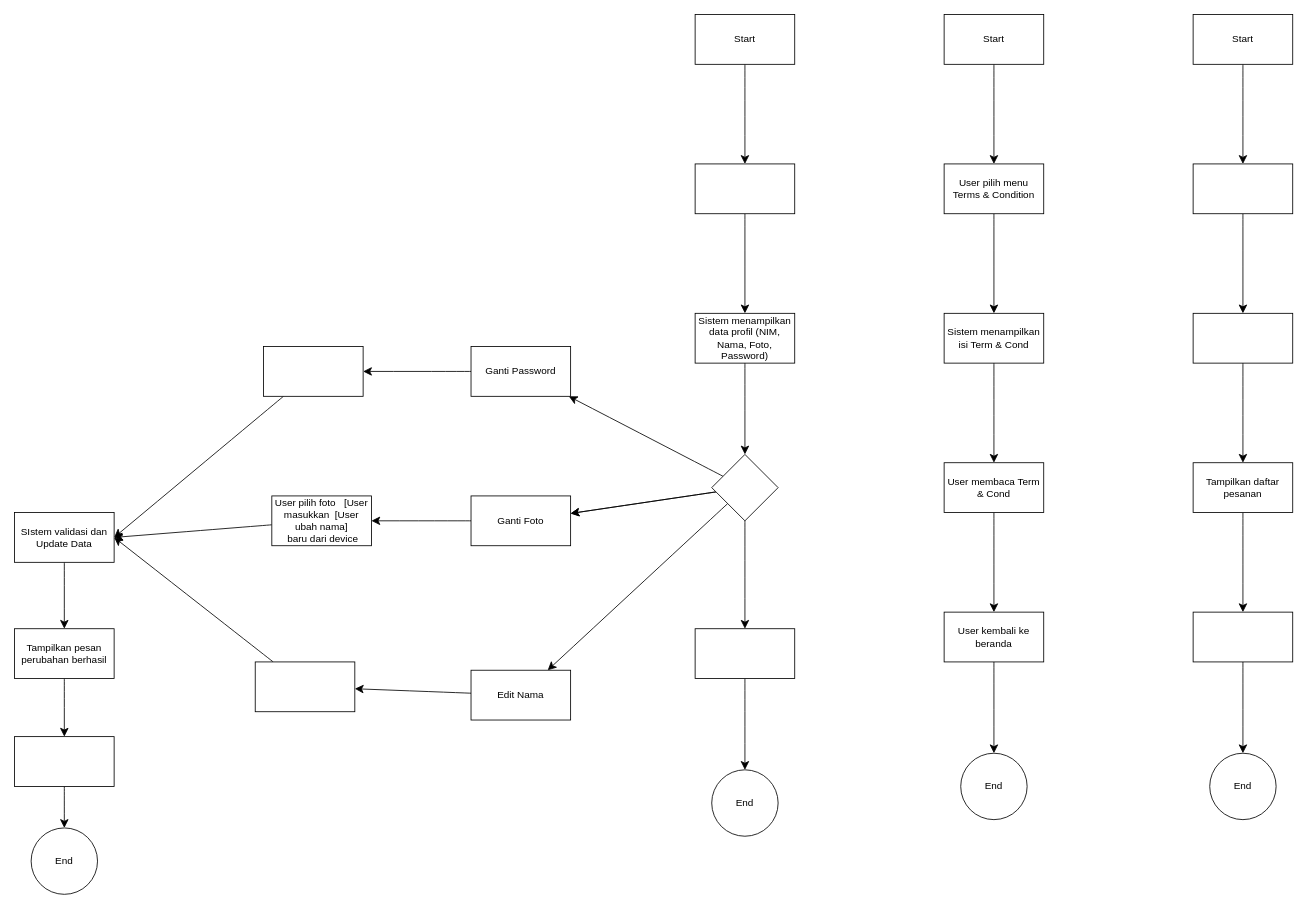
Some shapes in this 1307 by 909 pixel diagram are drawn without their labels. The box of each missing label's shape, as (x1, y1, x2, y2) in pixels:
Apakah user ingin mengubah data?: (711, 454, 778, 521)
Sistem ambil riwayat dari database: (1192, 312, 1293, 363)
User kembali ke halaman profil: (14, 736, 114, 786)
User kembali ke halaman profile: (694, 628, 795, 679)
User masukkan password lama, baru, verifikasi: (263, 346, 363, 396)
User melihat daftar pesanan: (1192, 611, 1293, 662)
User pilih menu History: (1192, 163, 1293, 214)
User piliih menu "Profile": (694, 163, 795, 214)
User ubah nama: (254, 661, 355, 712)
